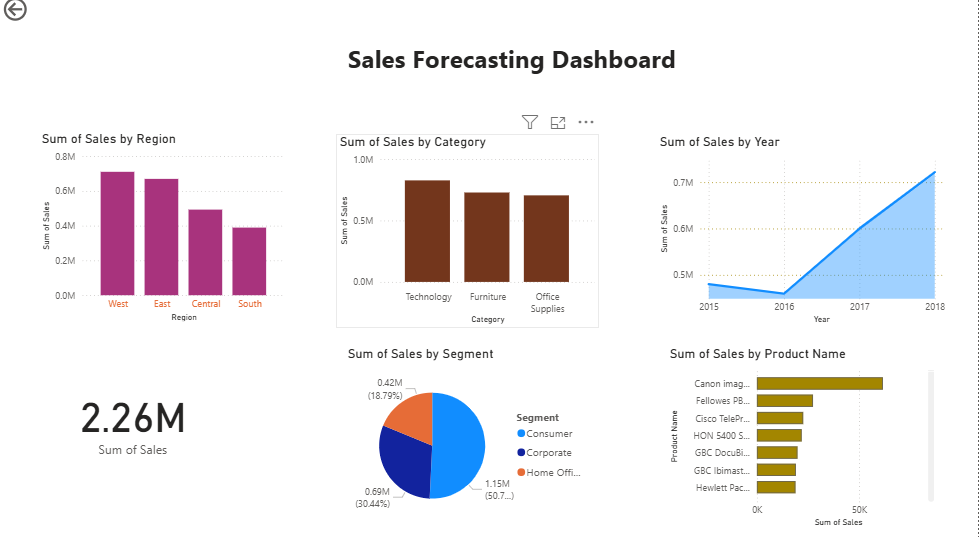

The page's visual inventory and layout, read from the dashboard file:
{"tool":"powerbi","page":{"name":"Retail Sales Analysis (2015-2018)","canvas":[1280,720],"ordinal":0},"visuals":[{"type":"clusteredColumnChart","fields":{"Category":["train.Region"],"Y":["Sum(train.Sales)"]},"box":[50.4,183.1,327.6,253.6],"z":0},{"type":"actionButton","box":[0,0,100,40],"z":1000},{"type":"card","fields":{"Values":["Sum(train.Sales)"]},"box":[30.2,460.3,347.7,241.9],"z":2000},{"type":"clusteredColumnChart","fields":{"Category":["train.Category"],"Y":["Sum(train.Sales)"]},"box":[440.1,183.1,344.4,253.6],"z":3000},{"type":"pieChart","fields":{"Category":["train.Segment"],"Y":["Sum(train.Sales)"]},"box":[450.2,460.3,325.9,241.9],"z":4000},{"type":"lineChart","fields":{"Category":["train.Order Date.Variation.Date Hierarchy.Year","train.Order Date.Variation.Date Hierarchy.Month"],"Y":["Sum(train.Sales)"]},"box":[858.4,183.1,383,253.6],"z":5000},{"type":"clusteredBarChart","fields":{"Category":["train.Product Name"],"Y":["Sum(train.Sales)"]},"box":[871.8,460.3,356.1,241.9],"z":6000},{"type":"textbox","box":[440.1,57.1,749.2,79],"z":7000}]}

Visuals, with their boxes on the page's 1280x720 design canvas (x1, y1, x2, y2). These are canvas units, not pixel positions in the 979x537 screenshot, which may show the page scaled, cropped or inside an application window:
clusteredColumnChart - train.Region x Sum(train.Sales): 50:183:378:437
actionButton: 0:0:100:40
card - Sum(train.Sales): 30:460:378:702
clusteredColumnChart - train.Category x Sum(train.Sales): 440:183:784:437
pieChart - train.Segment x Sum(train.Sales): 450:460:776:702
lineChart - train.Order Date.Variation.Date Hierarchy.Year x train.Order Date.Variation.Date Hierarchy.Month: 858:183:1241:437
clusteredBarChart - train.Product Name x Sum(train.Sales): 872:460:1228:702
textbox: 440:57:1189:136
